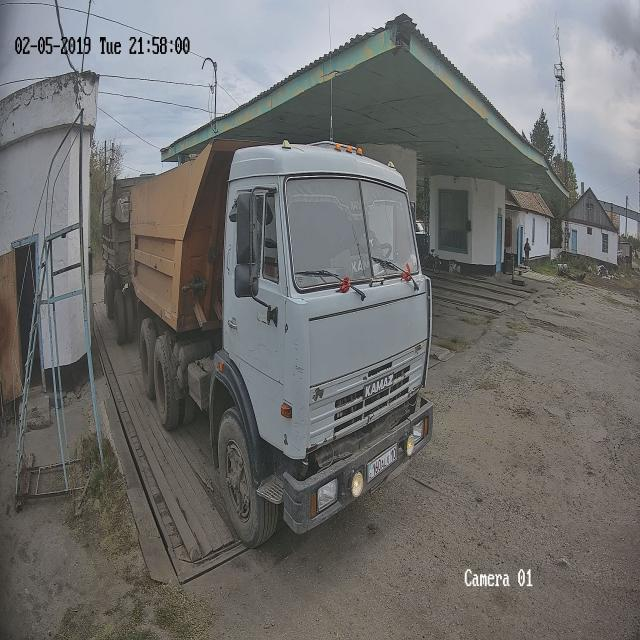license plate: (367, 445, 397, 481)
trailer: (101, 174, 227, 344)
truck: (121, 139, 433, 546), (390, 163, 390, 165)
